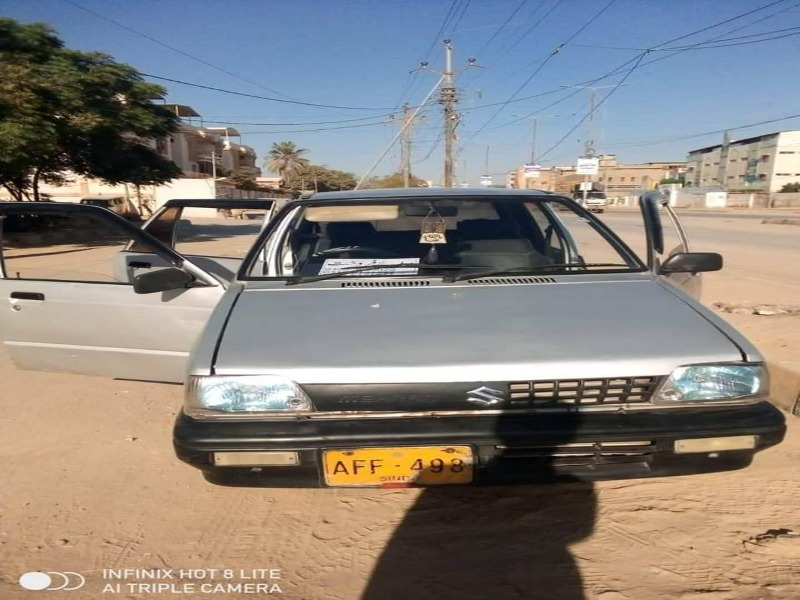License Plate: (318, 441, 481, 496)
